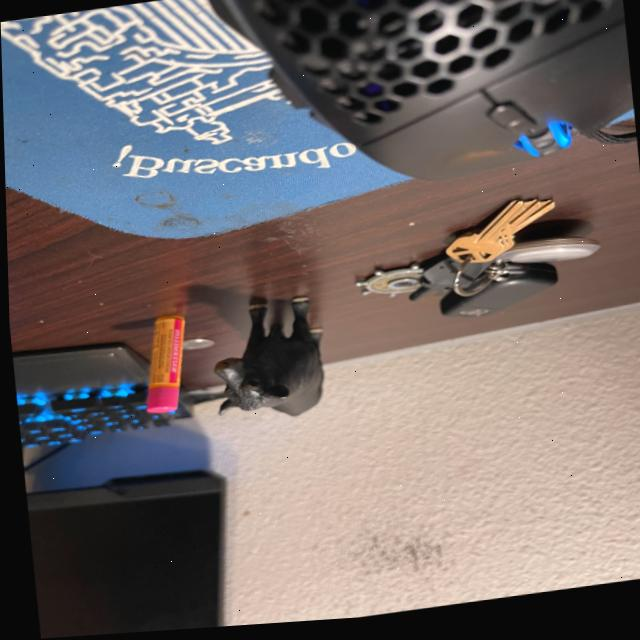cow: (210, 300, 322, 422)
